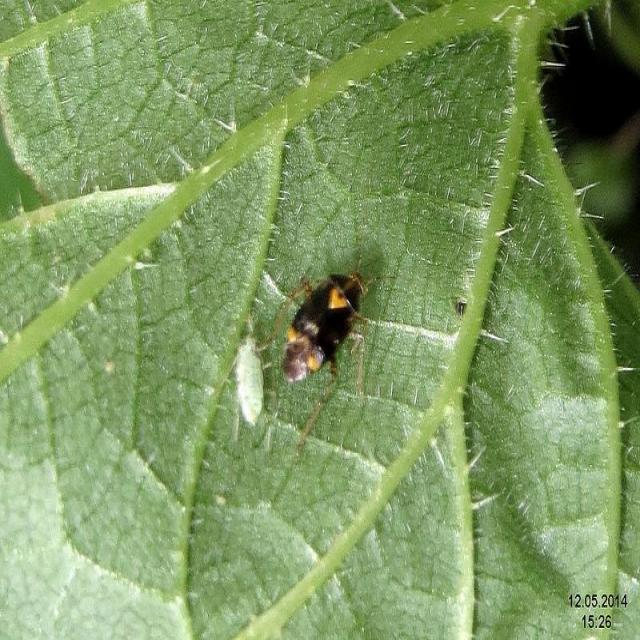Miridae-Adult-: (277, 198, 408, 418)
